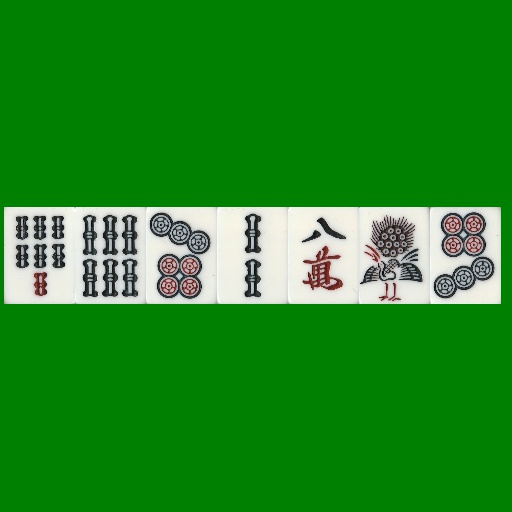1s: (359, 207, 430, 304)
2s: (217, 207, 288, 304)
6s: (75, 207, 146, 304)
7p: (146, 207, 217, 304), (430, 207, 501, 304)
7s: (4, 207, 75, 304)
8m: (288, 207, 359, 304)
